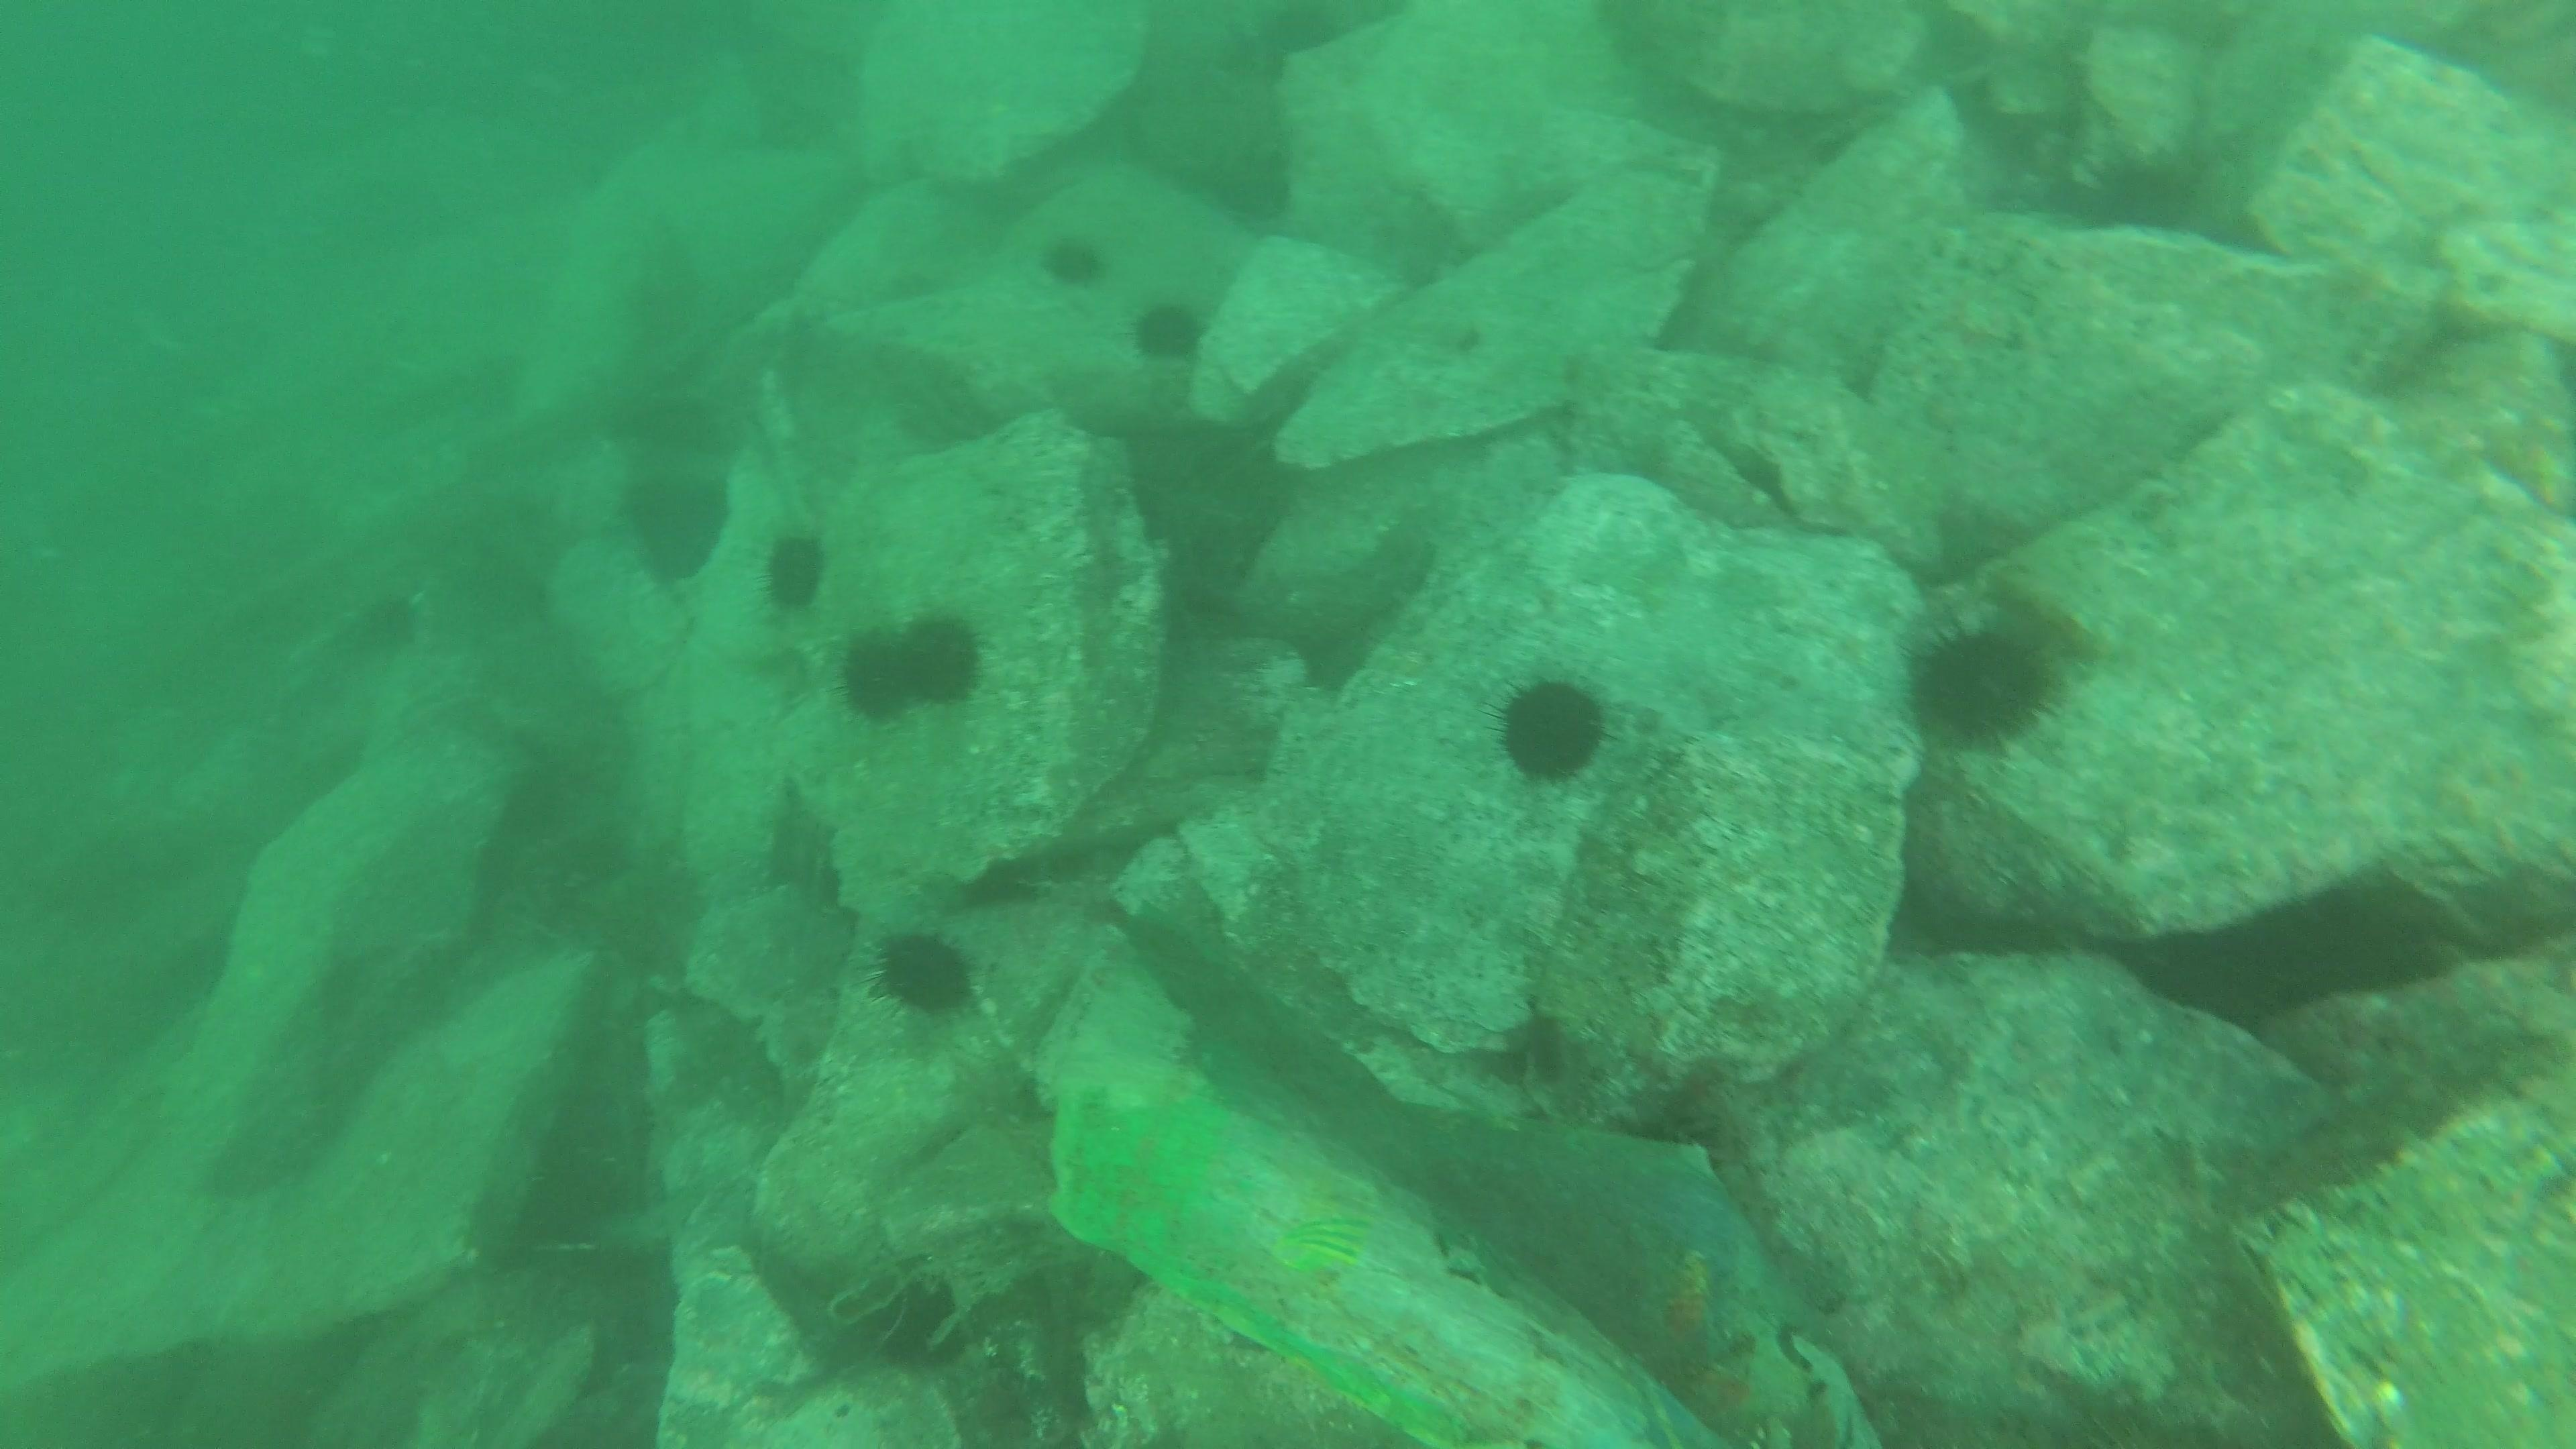echinus: (1900, 614, 2065, 754), (1490, 669, 1615, 787), (614, 464, 731, 586), (869, 922, 984, 1024), (835, 605, 915, 727), (893, 603, 987, 706), (754, 522, 835, 617), (1127, 292, 1214, 368), (1037, 225, 1111, 292)
